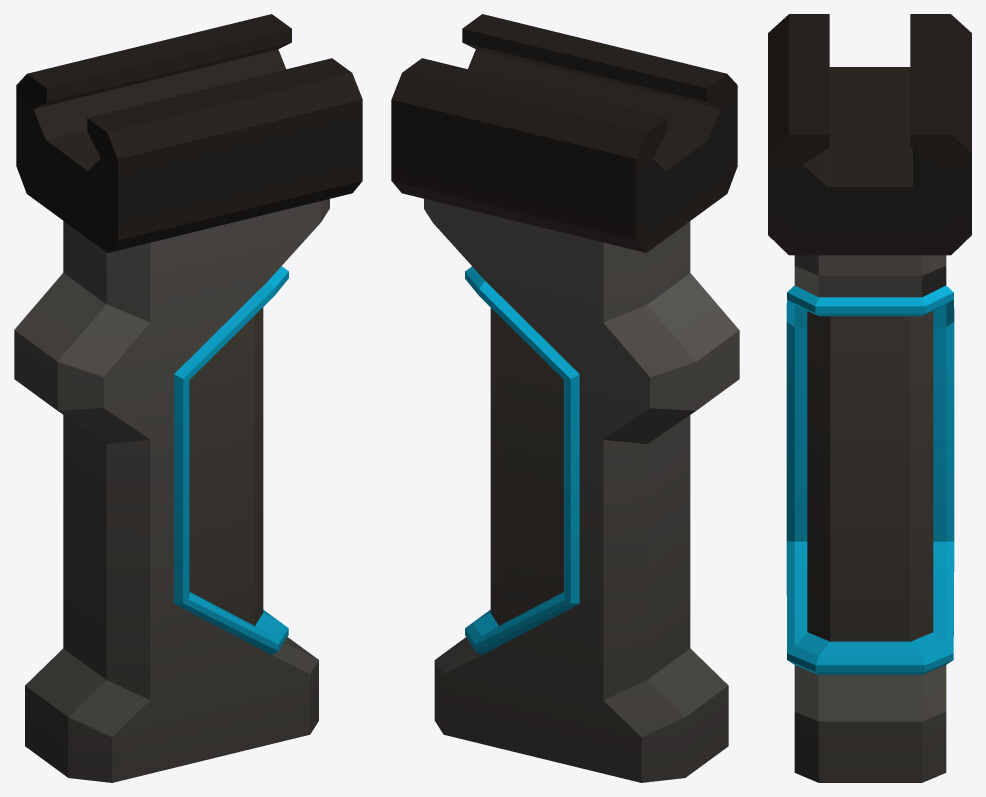
Rendered from Foregrip_Vertical_03.fbx.
3 views of the same model, side by side, from view 1: azimuth 30°, elevation 25°; view 2: azimuth 150°, elevation 25°; view 3: azimuth 270°, elevation 25° (orthographic).
Parts seen in each view (by area): view 1: Foregrip_Vertical_03; view 2: Foregrip_Vertical_03; view 3: Foregrip_Vertical_03.
Boxes of the visible parts, bbox=[...] form: Foregrip_Vertical_03: bbox=[14, 14, 362, 782]; Foregrip_Vertical_03: bbox=[391, 14, 739, 782]; Foregrip_Vertical_03: bbox=[768, 14, 971, 782].
Bounding box in the file's own units: 6.15 × 13.93 × 3.91.
